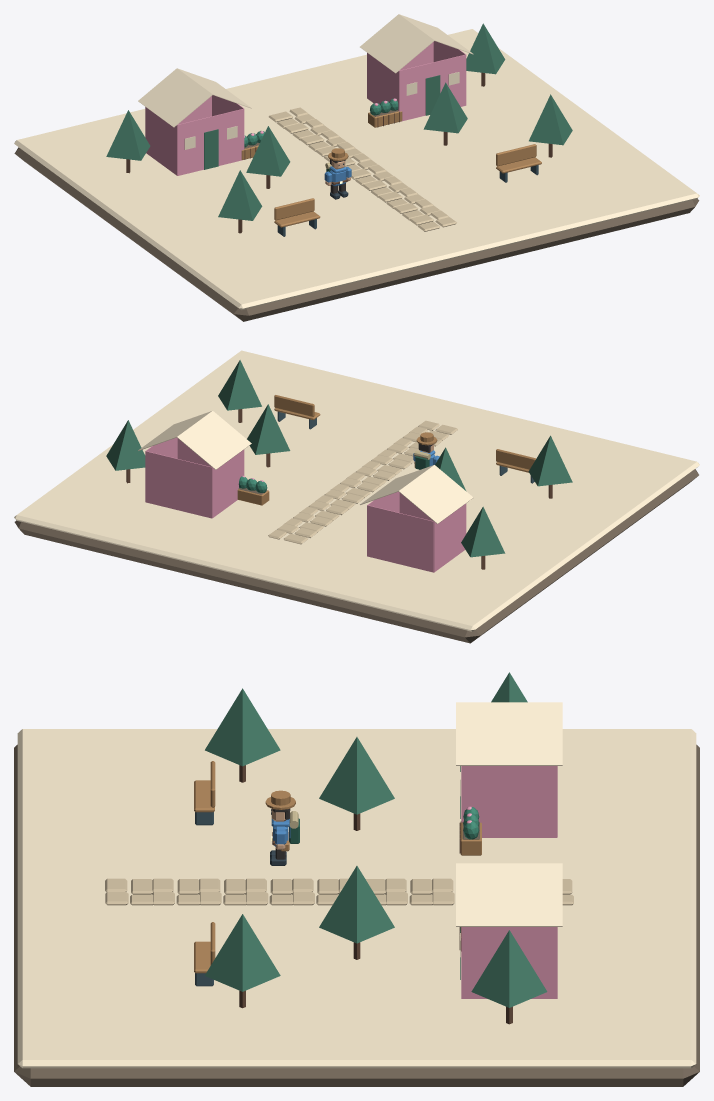
The model's file is world-paper-garden.glb.
3 views of the same model, one above another, from view 1: azimuth 30°, elevation 25°; view 2: azimuth 150°, elevation 25°; view 3: azimuth 270°, elevation 25° (orthographic). The views are drawn at different scales.
Visible parts, largest first — view 1: terrain-top, terrain-stratum, folded-paper-roof, folded-paper-roof.001, paper-front, paper-front.002, paper-side, paper-side.002, folded-canopy, folded-canopy.001, folded-canopy.005, folded-canopy.002 (+6 smaller); view 2: terrain-top, terrain-stratum, paper-front.001, paper-front.003, folded-paper-roof.001, folded-paper-roof, paper-side, paper-side.002, folded-canopy.002, folded-canopy, folded-canopy.001, folded-canopy.005 (+5 smaller); view 3: terrain-top, terrain-stratum, folded-paper-roof, folded-paper-roof.001, paper-side.001, paper-side.003, folded-canopy.004, folded-canopy.001, folded-canopy.003, folded-canopy.005, folded-canopy.
Boxes of the visible parts, box(x1,y1,x2,y2) form: terrain-top: box(14, 29, 699, 310); terrain-stratum: box(14, 147, 699, 321); folded-paper-roof: box(138, 68, 251, 127); folded-paper-roof.001: box(360, 14, 473, 73); paper-front: box(177, 108, 244, 175); paper-front.002: box(399, 54, 465, 121); paper-side: box(145, 107, 177, 175); paper-side.002: box(367, 53, 399, 111); folded-canopy: box(218, 170, 262, 220); folded-canopy.001: box(529, 94, 572, 145); folded-canopy.005: box(423, 82, 467, 133); folded-canopy.002: box(106, 110, 150, 160); terrain-top: box(14, 350, 699, 631); terrain-stratum: box(14, 469, 698, 643); paper-front.001: box(367, 505, 433, 572); paper-front.003: box(145, 451, 211, 518); folded-paper-roof.001: box(138, 410, 251, 469); folded-paper-roof: box(360, 465, 473, 523); paper-side: box(434, 503, 466, 572); paper-side.002: box(212, 449, 244, 518); folded-canopy.002: box(461, 506, 505, 557); folded-canopy: box(528, 435, 572, 486); folded-canopy.001: box(218, 360, 261, 410); folded-canopy.005: box(247, 404, 290, 454); terrain-top: box(17, 729, 696, 1068); terrain-stratum: box(14, 744, 699, 1086); folded-paper-roof: box(456, 702, 562, 765); folded-paper-roof.001: box(456, 863, 562, 926); paper-side.001: box(461, 766, 556, 837); paper-side.003: box(461, 927, 556, 998); folded-canopy.004: box(319, 737, 394, 814); folded-canopy.001: box(204, 914, 280, 991); folded-canopy.003: box(471, 930, 547, 1007); folded-canopy.005: box(319, 866, 394, 943); folded-canopy: box(205, 688, 280, 766).
Size of the model in its own units: 21 by 4.12 by 18.
